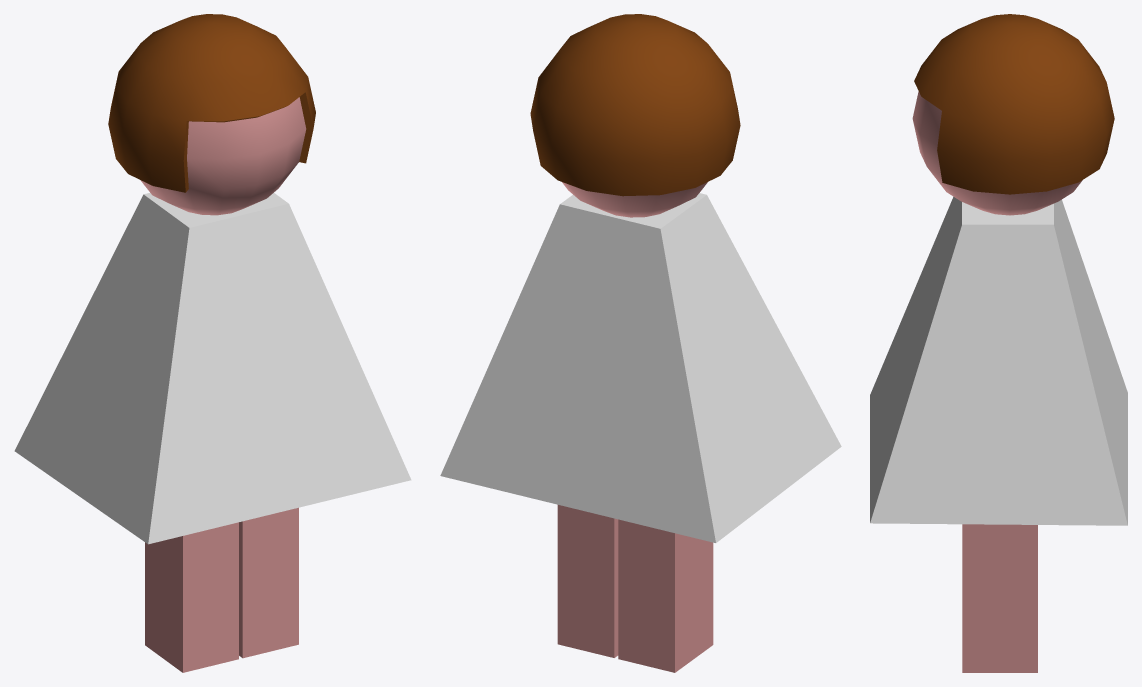
Rendered from Female.FBX.
The picture shows the model from 3 angles, left to right: view 1: azimuth 30°, elevation 25°; view 2: azimuth 150°, elevation 25°; view 3: azimuth 270°, elevation 25°; orthographic projection.
Visible parts, largest first — view 1: Fem_Dress, Fem_head, Fem_Leg; view 2: Fem_Dress, Fem_head, Fem_Leg; view 3: Fem_Dress, Fem_head, Fem_Leg.
Part boxes in pixels (<box>): Fem_Dress: <box>14,193,411,544</box>; Fem_head: <box>108,14,315,215</box>; Fem_Leg: <box>145,507,298,672</box>; Fem_Dress: <box>440,193,841,542</box>; Fem_head: <box>530,14,740,217</box>; Fem_Leg: <box>557,505,713,672</box>; Fem_Dress: <box>870,196,1127,525</box>; Fem_head: <box>912,14,1114,215</box>; Fem_Leg: <box>962,524,1037,672</box>.
Bounding box in the file's own units: 79.78 × 173 × 65.34.
